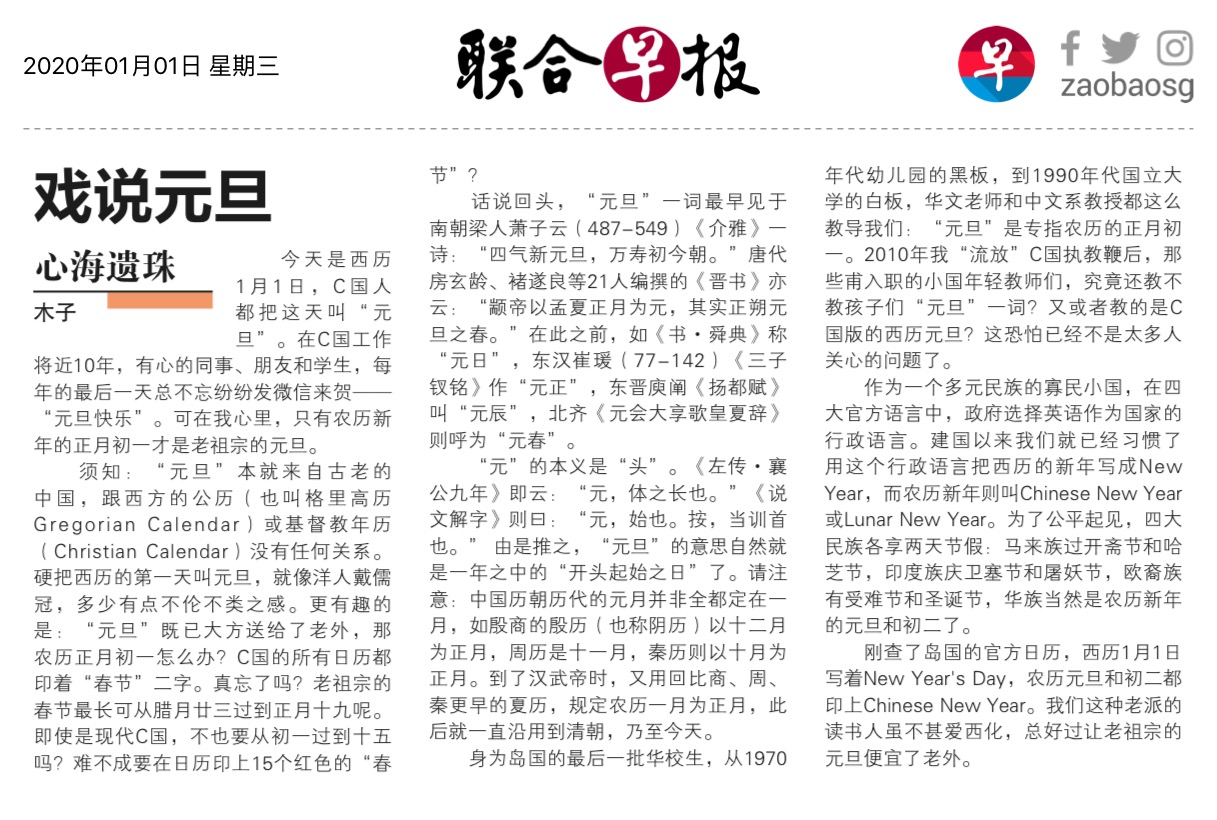heading: (31, 159, 278, 231)
